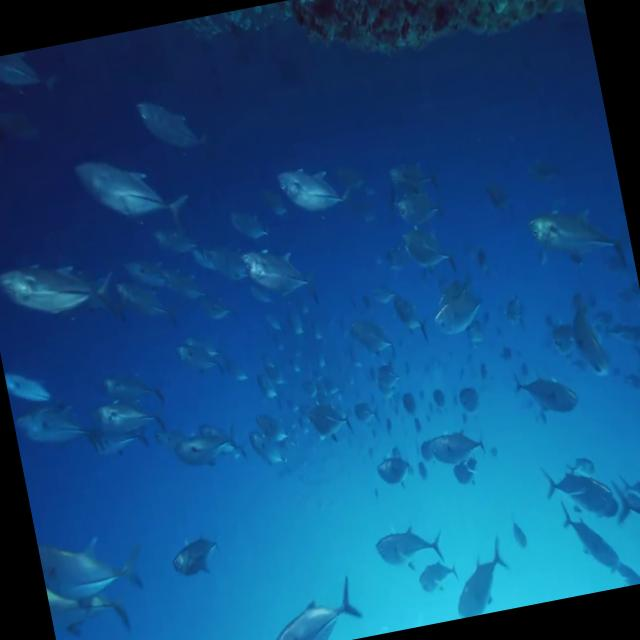fish: (0, 237, 124, 332), (75, 148, 185, 242), (37, 522, 148, 612), (528, 196, 624, 276), (275, 154, 363, 230), (537, 456, 620, 532), (262, 587, 364, 640), (450, 542, 512, 616), (374, 522, 446, 572)
